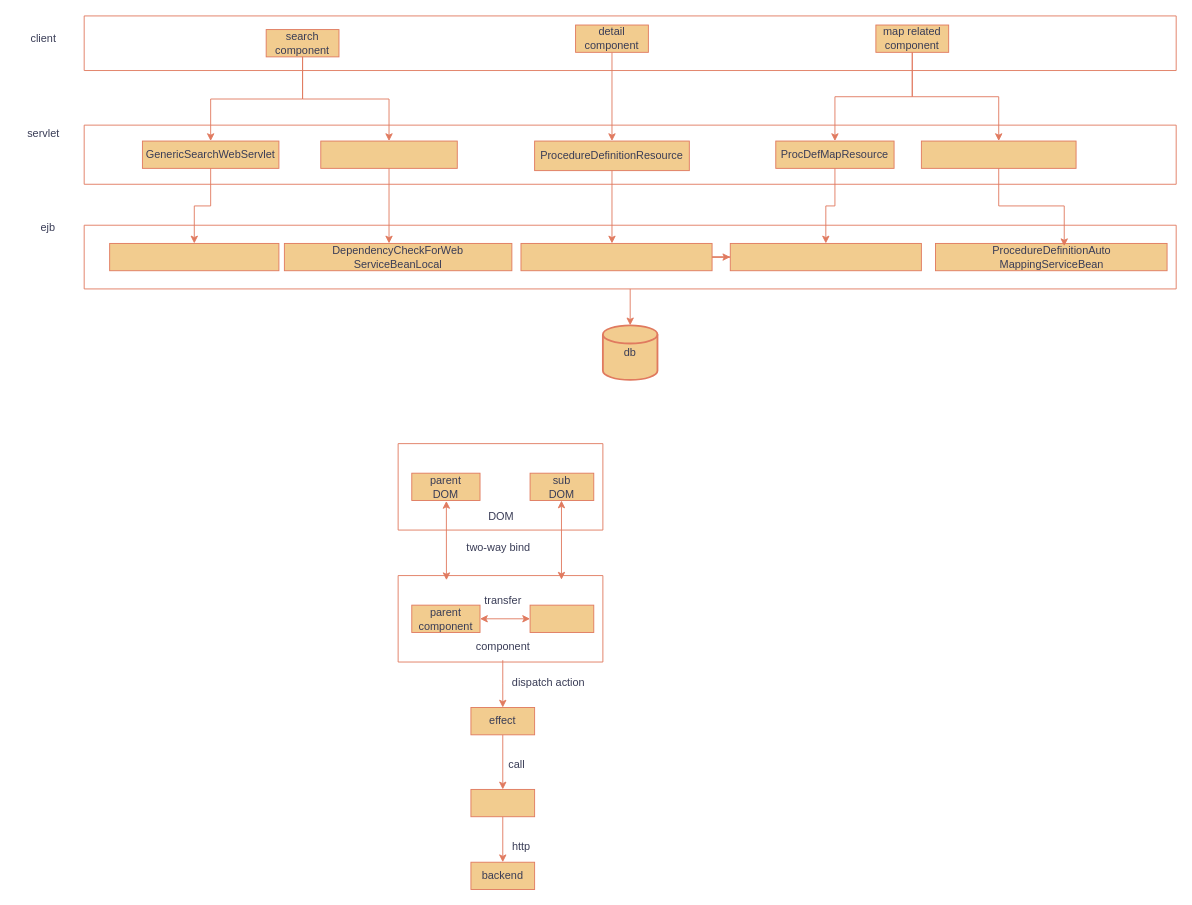
Image size: 1192x905. Some labels were removed from this diagram. The box of each missing label's shape, as (x1, y1, x2, y2) in pixels:
GenericSearchWeb ServiceBean: (109, 243, 279, 271)
ProcDefSuggestionResource: (920, 140, 1076, 168)
ProcedureDefinition ServiceBeanLocal: (729, 243, 921, 271)
ProcedureDefinition ServiceForWeb: (520, 243, 712, 271)
ReferenceCheckServlet: (320, 140, 457, 168)
service: (470, 789, 535, 817)
sub component: (529, 604, 594, 632)
